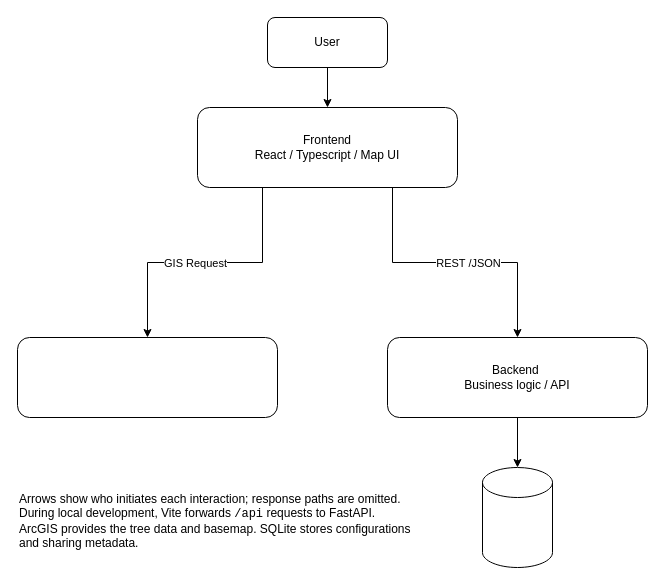
This 665x585 diagram has some shape labels left out. The box of each missing label's shape, as (x1, y1, x2, y2) in pixels:
Database App data: (482, 466, 552, 568)
External ArcGIS Services Base map and landscape tree feature: (16, 336, 278, 418)
